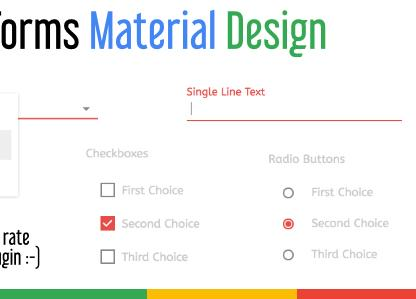checkbox: (97, 181, 120, 198), (99, 214, 118, 233), (99, 248, 118, 265)
checkbox_with_label: (97, 212, 198, 234), (97, 246, 193, 267), (94, 179, 186, 200)
field_line: (184, 84, 402, 122), (15, 92, 102, 121)
radio: (279, 185, 298, 201), (282, 215, 296, 232), (283, 245, 295, 261)
radio_with_label: (280, 213, 390, 234), (276, 182, 372, 203), (282, 244, 378, 262)
